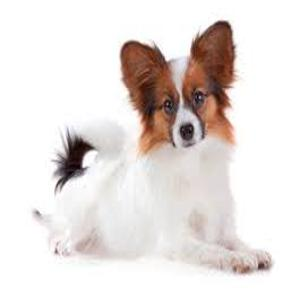yell: (30, 20, 273, 274)
